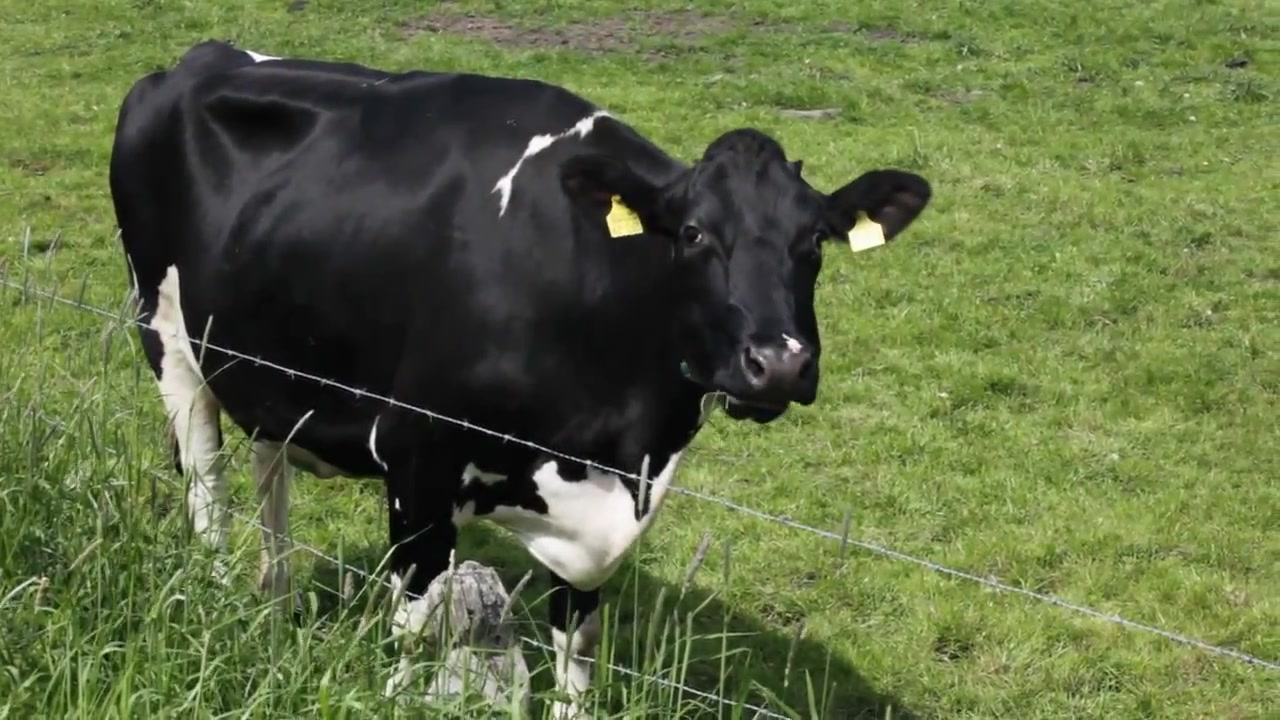cow: (102, 43, 937, 720)
